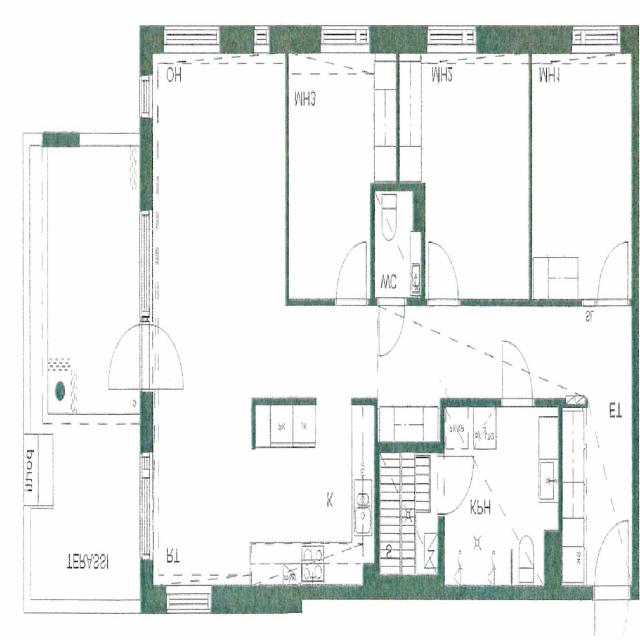door: (106, 323, 154, 390), (140, 323, 188, 390), (594, 518, 630, 600), (437, 455, 475, 515), (336, 239, 367, 306), (598, 240, 629, 306), (502, 340, 532, 407), (428, 242, 458, 306), (379, 299, 404, 355)
